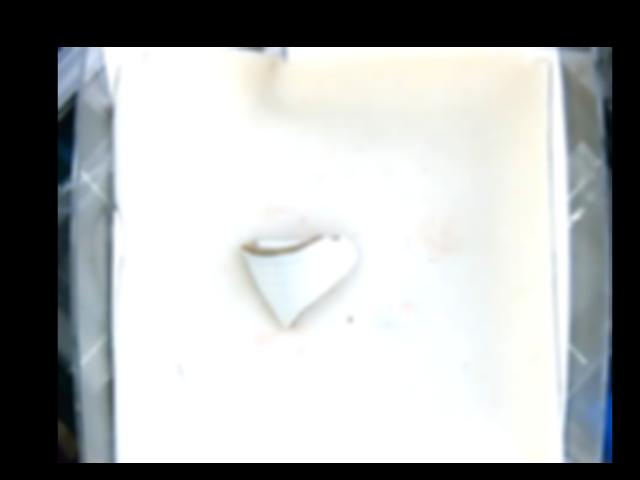China: (241, 233, 359, 330)
